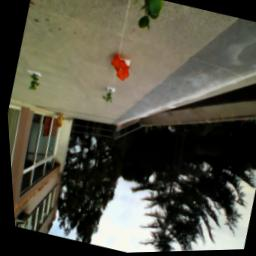herb: (127, 1, 167, 35), (24, 71, 43, 95), (100, 87, 115, 107)
wild: (105, 53, 136, 87)
